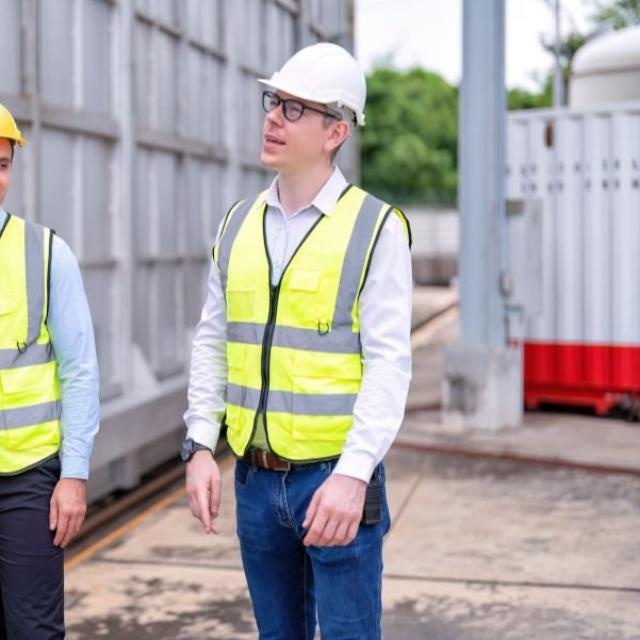Con_Casco: (253, 42, 370, 177)
Con_Chaleco: (210, 190, 416, 464)
